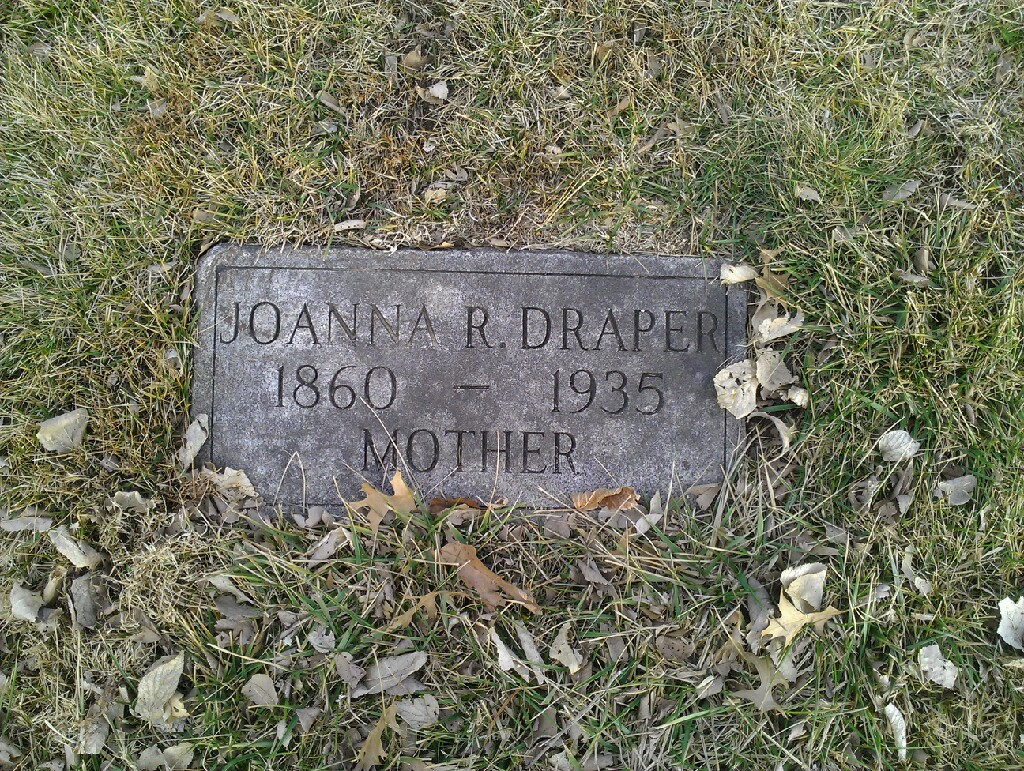flat: (186, 242, 751, 518)
